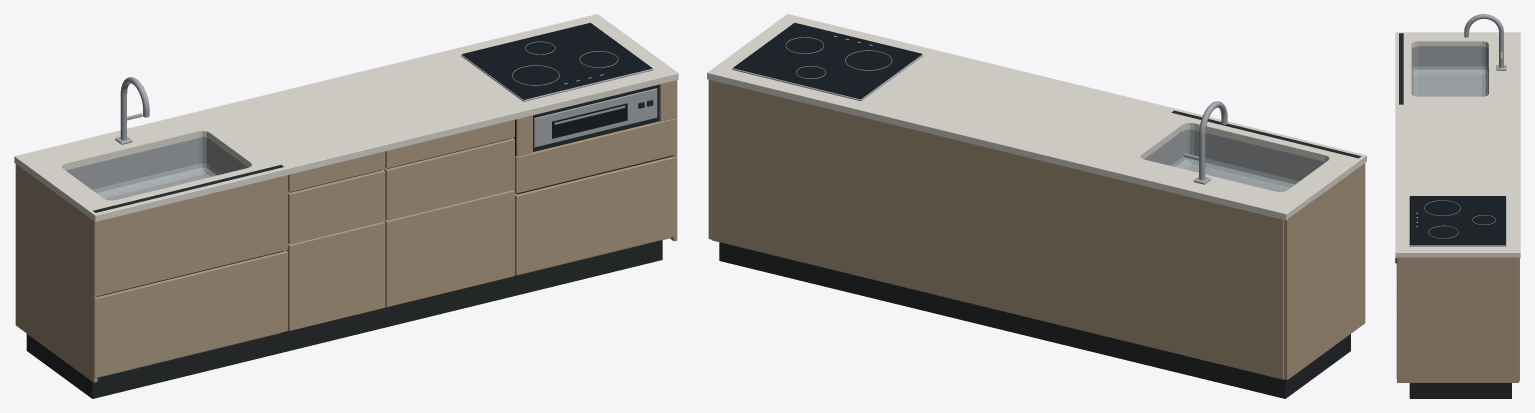
Rendered from original-kitchen-i2700-no-dw.glb.
3 renders of one model, left to right at view 1: azimuth 30°, elevation 25°; view 2: azimuth 150°, elevation 25°; view 3: azimuth 270°, elevation 25°, orthographic. The views are drawn at different scales.
Parts seen in each view (by area): view 1: original-kitchen-i2700-no-dw; view 2: original-kitchen-i2700-no-dw; view 3: original-kitchen-i2700-no-dw.
Part boxes in pixels (x1=…): original-kitchen-i2700-no-dw: x1=14, y1=14, x2=678, y2=398; original-kitchen-i2700-no-dw: x1=707, y1=14, x2=1366, y2=398; original-kitchen-i2700-no-dw: x1=1395, y1=14, x2=1520, y2=398.
Bounding box in the file's own units: 2.7 × 1.16 × 0.65.
